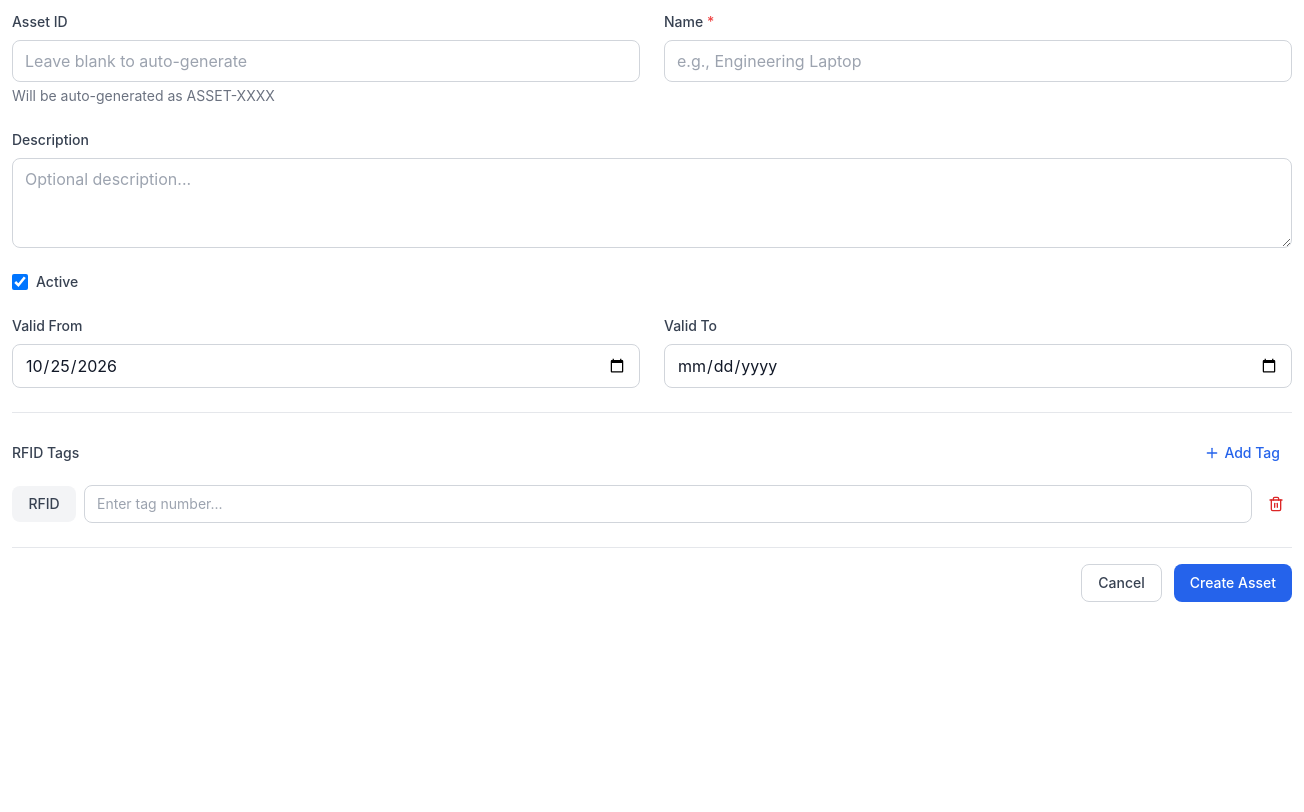
Test: AssetForm › validates identifier format
Type "invalid id!" into the field labelled "Asset ID". click: (326, 61)
box: [12, 40, 640, 82]
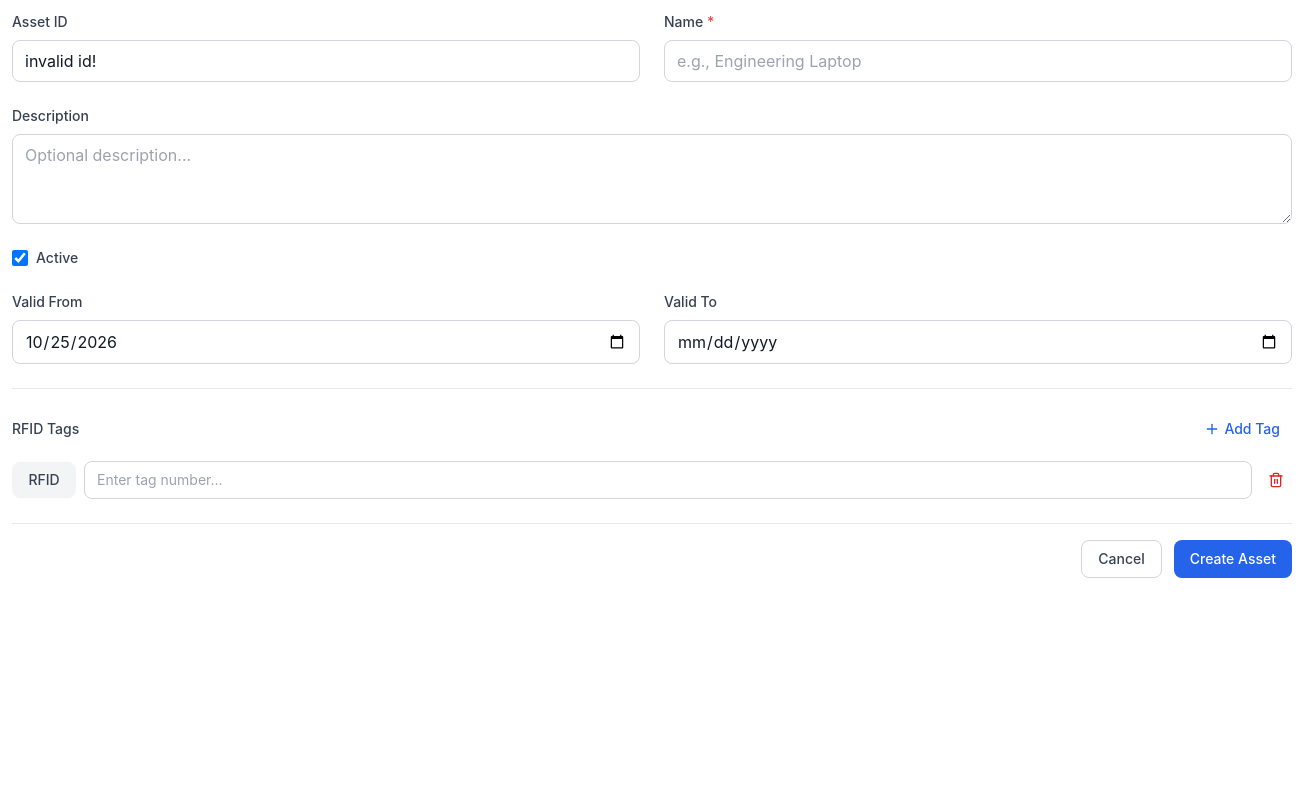
Click the button "Create Asset". click: (1233, 559)
box: [1174, 540, 1292, 578]
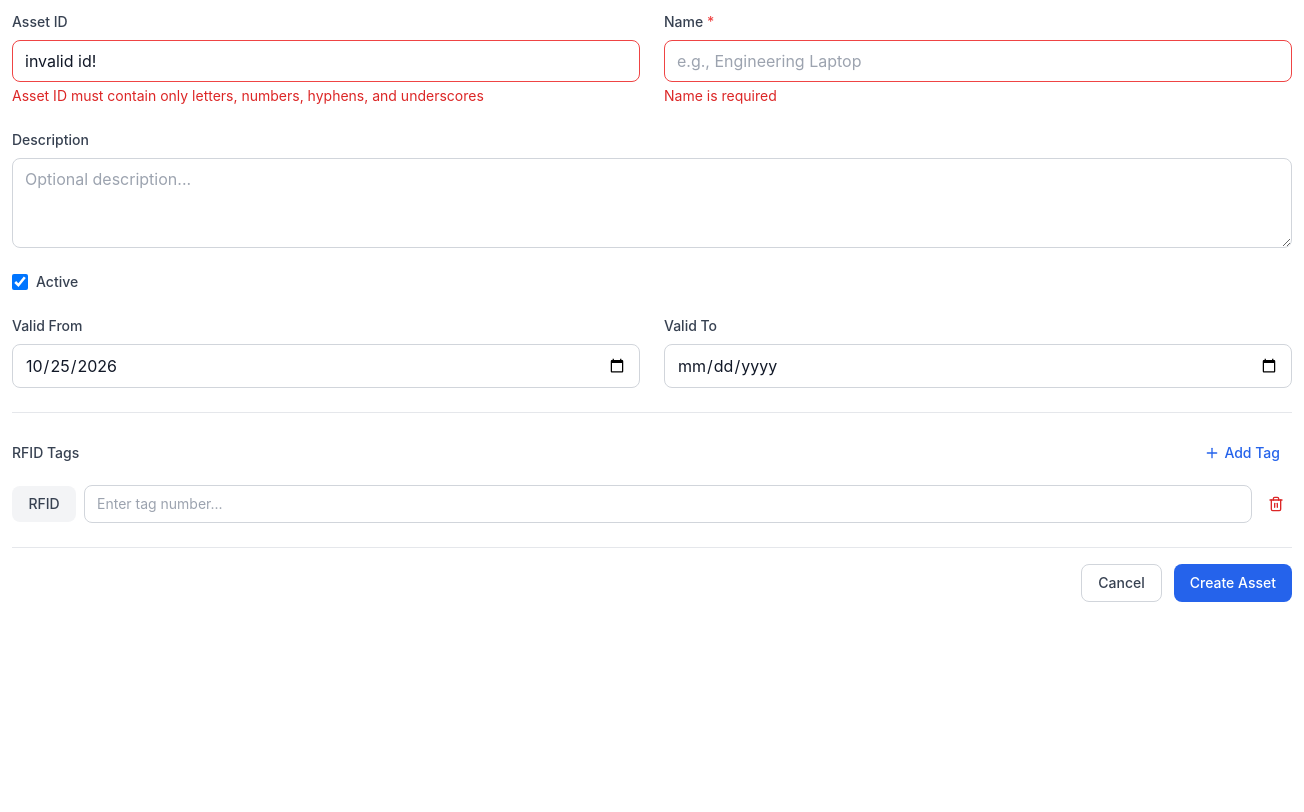
Expected: the text "must contain only letters, numbers, hyphens, and underscores" is shown, [12, 87, 484, 104]
